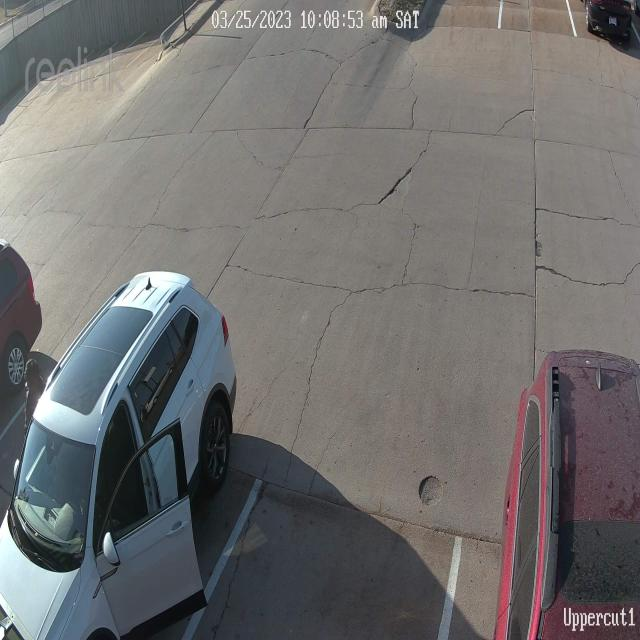Empty-slot: (192, 431, 475, 636)
Slot-Occupied: (5, 271, 226, 640), (499, 351, 640, 640), (0, 243, 46, 392), (588, 0, 637, 45)
